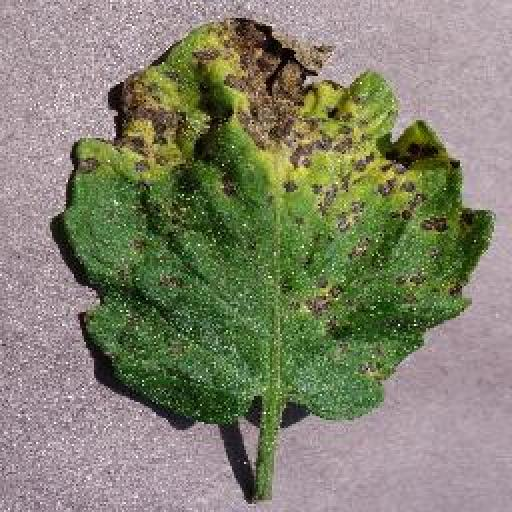disease_tomato: (58, 18, 494, 430)
